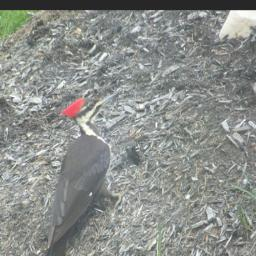Woodpecker: (34, 88, 128, 256)
